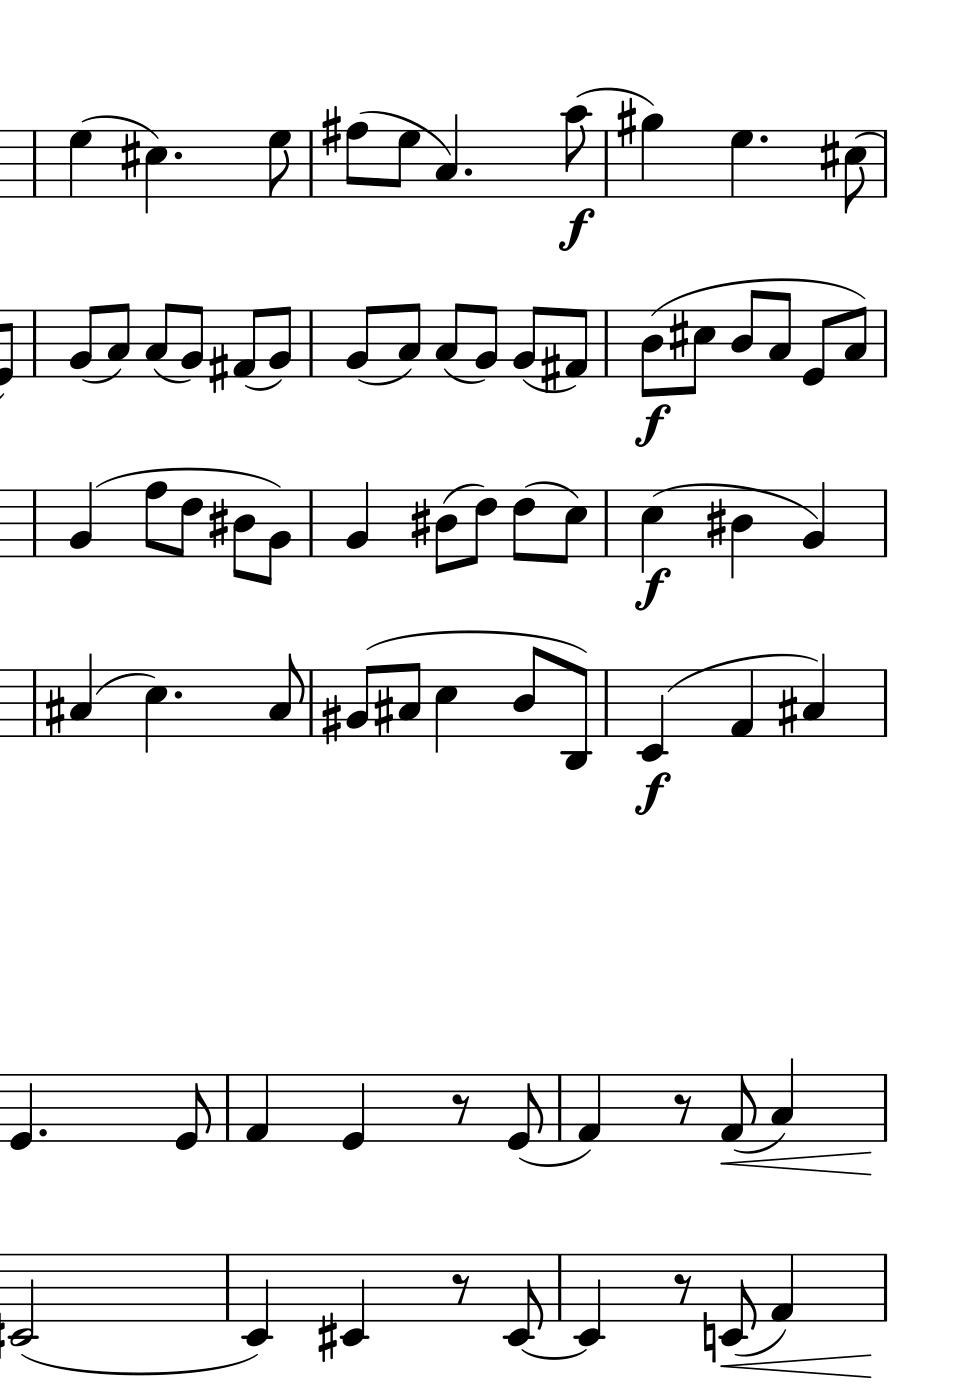2_-2: (7, 1251, 37, 1347)
4_-2: (636, 667, 666, 764), (573, 1251, 602, 1347), (242, 1250, 270, 1347), (339, 1252, 367, 1345)
4_0: (340, 1072, 366, 1152), (8, 1072, 34, 1151)
4_1: (243, 1073, 270, 1144), (576, 1073, 602, 1144), (769, 1252, 795, 1323)
4_2: (801, 480, 828, 559), (344, 480, 370, 559)
4_3: (68, 651, 94, 737), (801, 654, 826, 740), (433, 115, 458, 199), (768, 1057, 794, 1134)
4_4: (728, 488, 754, 580)
4_5: (432, 667, 459, 754), (142, 129, 168, 216), (142, 668, 168, 755), (638, 488, 664, 574)
4_7: (67, 129, 93, 199), (728, 128, 753, 200)
4_9: (637, 111, 662, 199)
8_-2: (502, 1252, 545, 1347), (718, 1251, 759, 1346)
8_-3: (562, 664, 591, 772)
8_0: (174, 1073, 212, 1151), (506, 1073, 543, 1151), (801, 308, 830, 390)
8_1: (718, 1072, 758, 1144), (231, 306, 263, 379), (727, 668, 755, 740), (562, 308, 588, 381)
8_10: (561, 104, 592, 199)
8_2: (262, 488, 292, 587), (343, 304, 377, 378), (67, 481, 97, 559), (511, 305, 543, 378), (67, 304, 98, 378), (345, 664, 374, 739), (179, 304, 204, 378), (473, 304, 497, 378), (268, 305, 292, 379)
8_3: (266, 653, 304, 739), (143, 300, 173, 376), (434, 301, 463, 378), (766, 292, 791, 380), (396, 301, 421, 379), (396, 661, 421, 738), (106, 301, 130, 378), (843, 305, 868, 379)
8_4: (511, 645, 543, 739), (730, 290, 762, 378), (231, 488, 257, 581), (433, 488, 459, 576), (638, 309, 664, 399)
8_5: (684, 308, 715, 396), (556, 488, 587, 566), (841, 127, 867, 214)
8_6: (466, 488, 497, 567), (173, 490, 202, 559), (510, 487, 533, 564)
8_7: (389, 128, 421, 198), (266, 129, 292, 198)
8_8: (343, 120, 368, 200), (141, 480, 167, 560)
Crescendo_hairpin: (722, 1150, 872, 1175), (719, 1353, 871, 1378)
Natural: (701, 1311, 716, 1363)
Rests8: (450, 1092, 471, 1127), (450, 1271, 471, 1306), (672, 1092, 693, 1126), (672, 1271, 692, 1306)
Sharp: (775, 684, 799, 739), (817, 130, 840, 182), (319, 105, 342, 158), (614, 97, 636, 150), (207, 497, 229, 550), (42, 685, 65, 738), (319, 694, 342, 747), (118, 130, 140, 182), (704, 498, 727, 550), (207, 343, 228, 394), (667, 309, 688, 361), (408, 498, 430, 550), (372, 686, 393, 738), (316, 1311, 336, 1363), (540, 343, 560, 393)
Single_barline: (875, 1074, 893, 1142), (597, 310, 614, 378), (876, 1255, 893, 1321), (303, 310, 319, 378), (550, 1074, 566, 1142), (876, 131, 892, 198), (27, 130, 42, 196), (302, 131, 318, 197), (27, 490, 42, 556), (27, 670, 42, 736), (552, 1255, 567, 1320), (302, 491, 318, 556), (218, 1075, 234, 1140), (220, 1255, 235, 1319), (877, 309, 892, 378), (27, 310, 41, 378), (877, 490, 892, 557), (877, 670, 892, 737), (598, 131, 613, 197), (303, 670, 318, 736), (598, 670, 613, 736), (598, 491, 613, 556)
Slur: (651, 278, 867, 316), (652, 481, 815, 521), (669, 651, 817, 694), (23, 1351, 259, 1375), (364, 629, 591, 653), (360, 108, 448, 157), (94, 469, 285, 489), (80, 115, 159, 141), (734, 1327, 789, 1358), (519, 1147, 592, 1169), (94, 672, 153, 697), (578, 86, 651, 105), (524, 479, 580, 499), (735, 1131, 785, 1154), (355, 367, 412, 386), (520, 378, 576, 394), (440, 483, 483, 504), (523, 1348, 589, 1361), (80, 366, 122, 385), (442, 366, 484, 385), (151, 366, 191, 384), (244, 378, 282, 392), (851, 130, 886, 143)
dot: (757, 131, 769, 146), (171, 150, 183, 162), (171, 689, 183, 701), (36, 1126, 48, 1139), (462, 166, 473, 178)
f: (633, 769, 672, 815), (632, 567, 672, 612), (556, 207, 595, 252), (632, 402, 671, 448)
